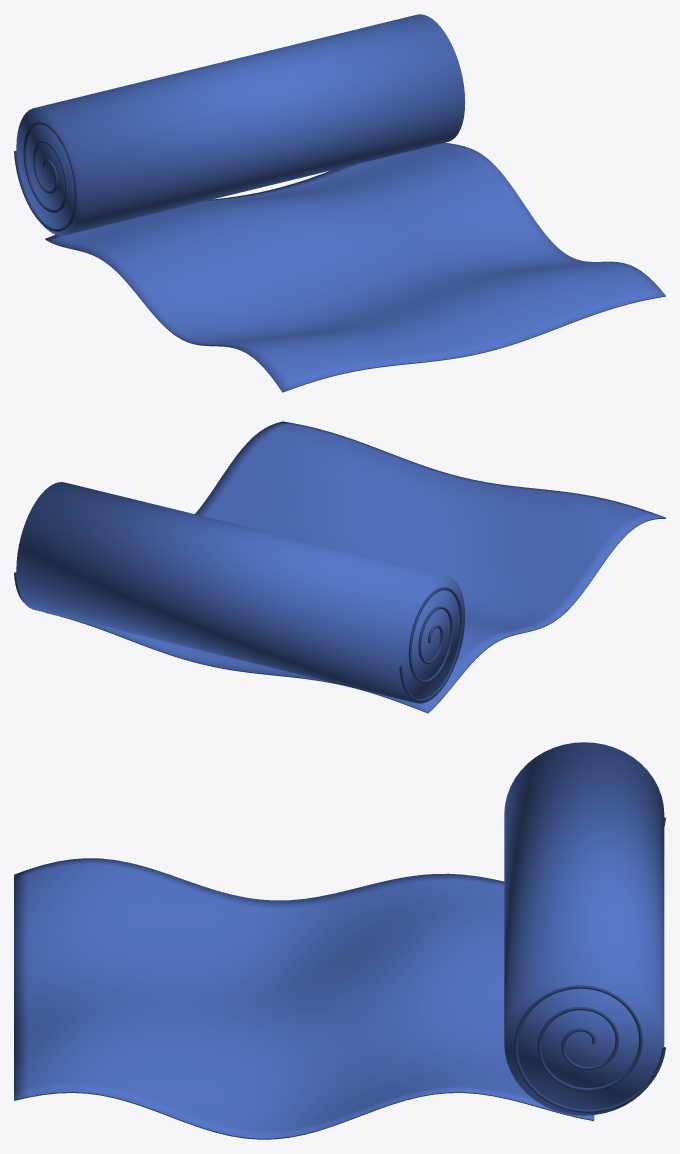
The picture shows the model from 3 angles, top to bottom: view 1: azimuth 30°, elevation 25°; view 2: azimuth 150°, elevation 25°; view 3: azimuth 270°, elevation 25°; orthographic projection. The views are drawn at different scales.
Visible parts, largest first — view 1: TI013 / editable draped woven sheet, TI013 / rolled cloth body, TI013 / visible spiral selvage; view 2: TI013 / rolled cloth body, TI013 / editable draped woven sheet, TI013 / visible spiral selvage; view 3: TI013 / editable draped woven sheet, TI013 / rolled cloth body, TI013 / visible spiral selvage.001.
Part boxes in pixels (left/top/right/bottom): TI013 / editable draped woven sheet: left=45, top=142, right=665, bottom=392; TI013 / rolled cloth body: left=16, top=14, right=465, bottom=235; TI013 / visible spiral selvage: left=14, top=121, right=77, bottom=231; TI013 / rolled cloth body: left=16, top=482, right=465, bottom=703; TI013 / editable draped woven sheet: left=45, top=421, right=665, bottom=713; TI013 / visible spiral selvage: left=399, top=587, right=462, bottom=701; TI013 / editable draped woven sheet: left=14, top=858, right=594, bottom=1139; TI013 / rolled cloth body: left=504, top=742, right=664, bottom=1115; TI013 / visible spiral selvage.001: left=514, top=985, right=665, bottom=1112.
Size of the model in its own units: 2.73 by 0.9328 by 3.26.
